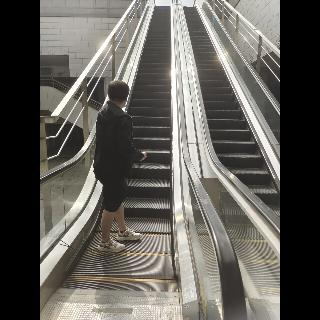normal: (84, 80, 148, 256)
